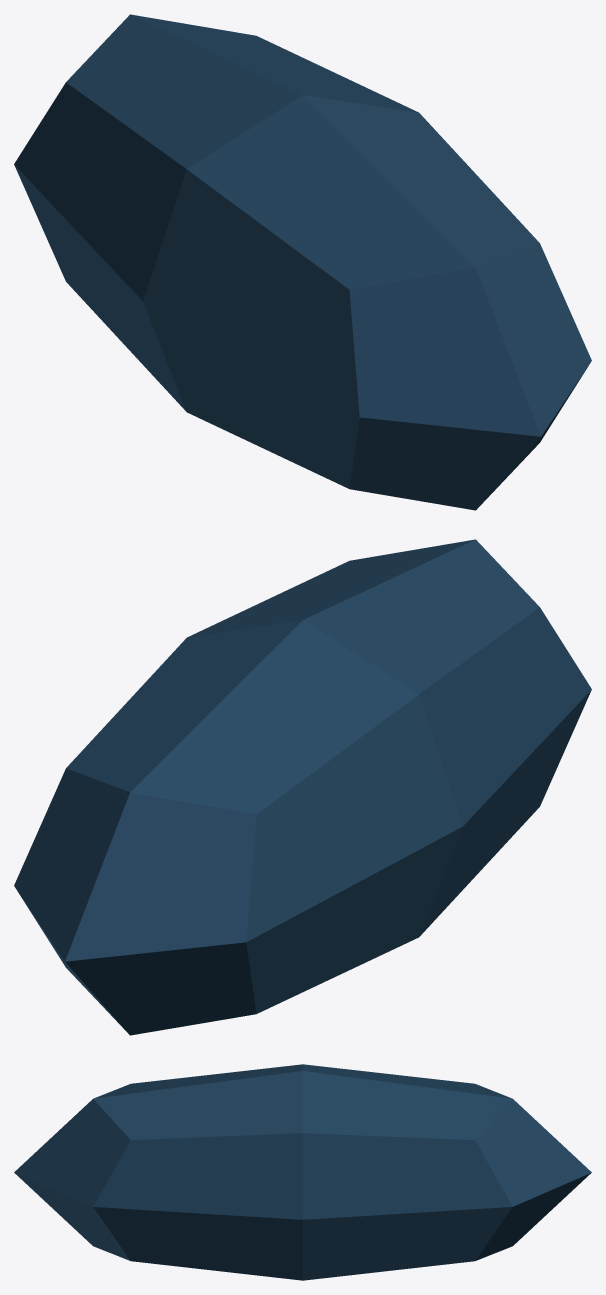
The model's file is fish.glb.
3 renders of one model, top to bottom at view 1: azimuth 30°, elevation 25°; view 2: azimuth 150°, elevation 25°; view 3: azimuth 270°, elevation 25°, orthographic. The views are drawn at different scales.
Parts seen in each view (by area): view 1: Cube; view 2: Cube; view 3: Cube.
Boxes of the visible parts, bbox=[...] form: Cube: bbox=[14, 14, 591, 510]; Cube: bbox=[14, 539, 591, 1035]; Cube: bbox=[14, 1064, 591, 1280].
Size of the model in its own units: 1.14 by 1.14 by 2.94.
